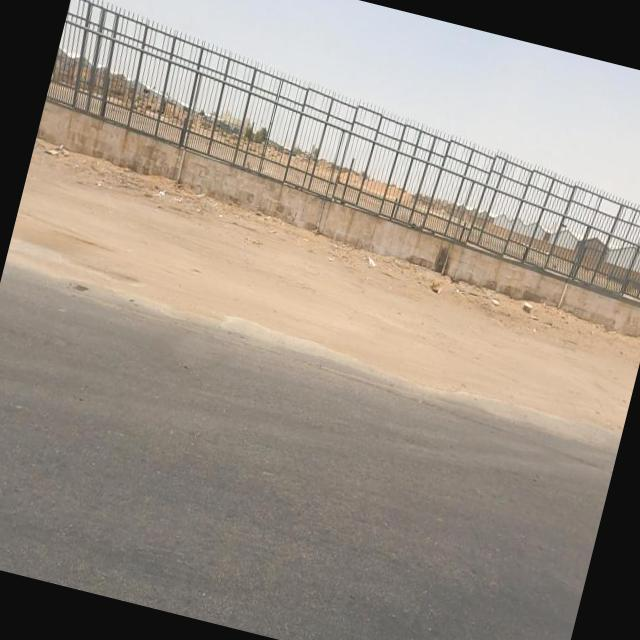debris: (390, 242, 480, 339), (125, 148, 208, 232), (491, 263, 567, 349), (338, 222, 398, 292), (28, 124, 94, 184), (77, 158, 121, 209)
